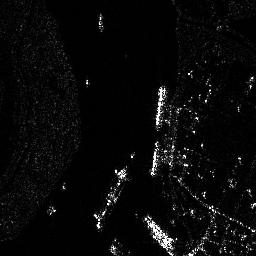ship: (93, 165, 127, 228), (145, 214, 176, 250), (153, 84, 168, 130), (149, 140, 160, 176)
